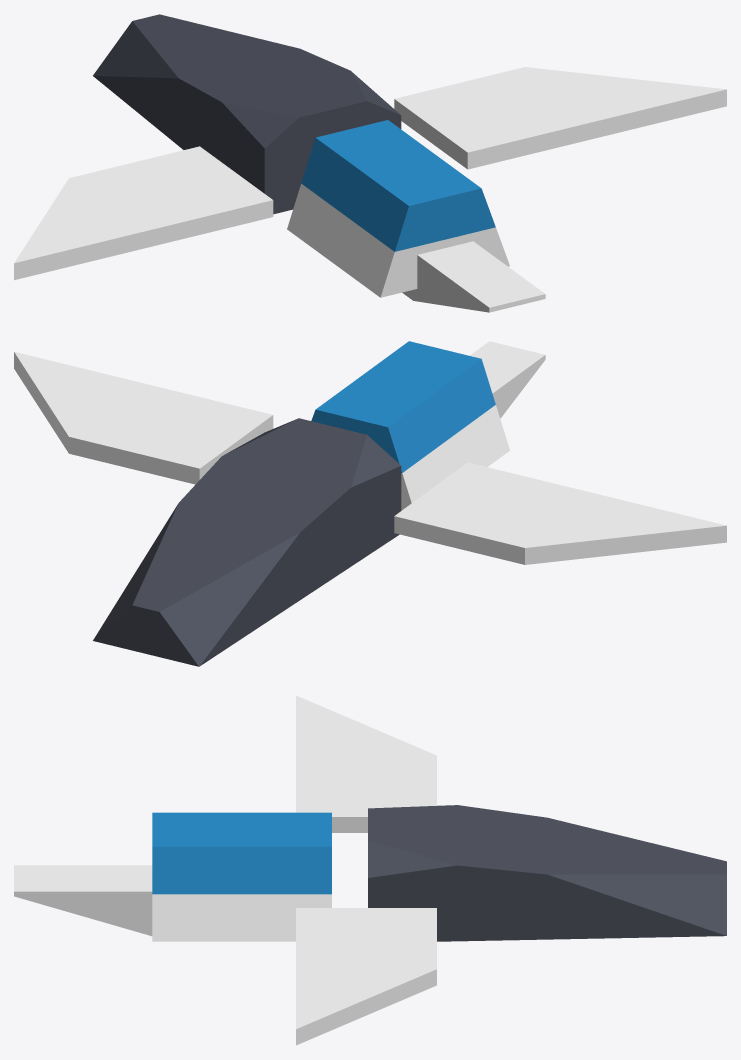
The model's file is Space ship final.fbx.
The picture shows the model from 3 angles, top to bottom: view 1: azimuth 30°, elevation 25°; view 2: azimuth 150°, elevation 25°; view 3: azimuth 270°, elevation 25°; orthographic projection. The views are drawn at different scales.
Visible parts, largest first — view 1: glass_high_0, ship_cargoBody_4, plane_elevator_16, plane_elevator_17, plane_rudder_6; view 2: glass_high_0, plane_elevator_17, plane_elevator_16, ship_cargoBody_4, plane_rudder_6; view 3: glass_high_0, ship_cargoBody_4, plane_elevator_16, plane_elevator_17, plane_rudder_6.
Boxes of the visible parts, x1,y1,x2,y2 form: glass_high_0: [93, 14, 401, 214]; ship_cargoBody_4: [287, 120, 509, 297]; plane_elevator_16: [394, 67, 726, 169]; plane_elevator_17: [14, 146, 273, 280]; plane_rudder_6: [402, 241, 545, 312]; glass_high_0: [93, 418, 401, 666]; plane_elevator_17: [394, 462, 726, 564]; plane_elevator_16: [14, 351, 273, 484]; ship_cargoBody_4: [311, 341, 509, 510]; plane_rudder_6: [469, 341, 545, 418]; glass_high_0: [368, 805, 726, 941]; ship_cargoBody_4: [152, 812, 331, 941]; plane_elevator_16: [296, 908, 436, 1045]; plane_elevator_17: [296, 695, 436, 832]; plane_rudder_6: [14, 865, 152, 936].
Size of the model in its own units: 22 by 3.11 by 19.86.
